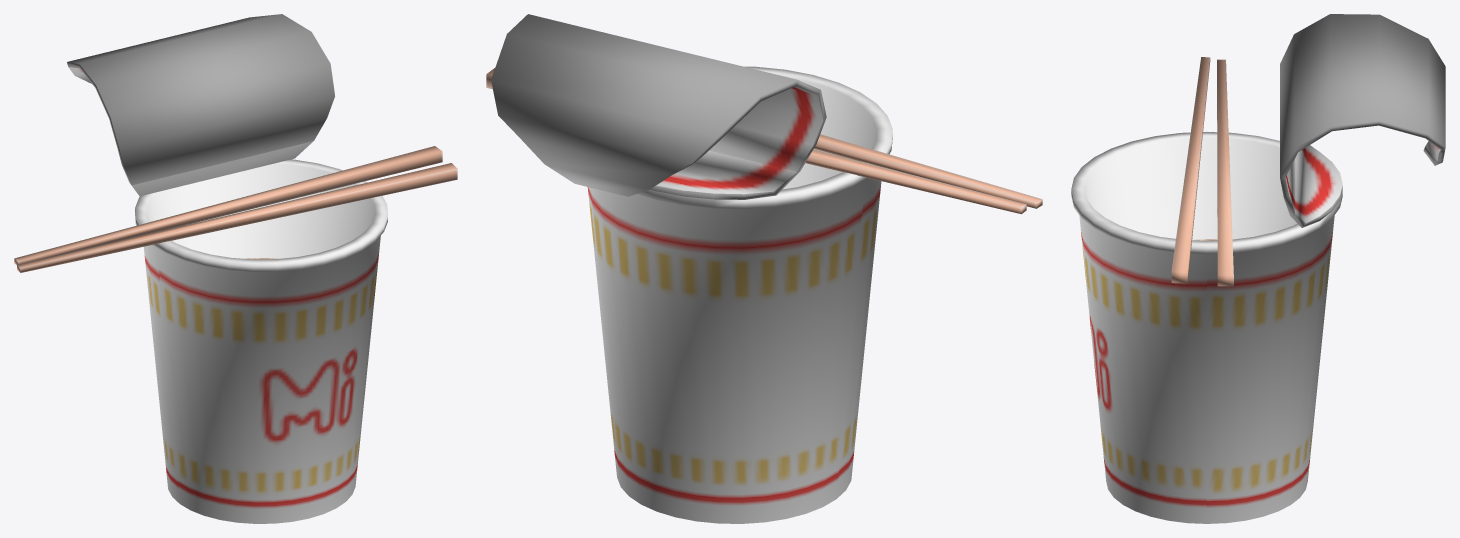
The model's file is cup-noodle.glb.
The picture shows the model from 3 angles, left to right: view 1: azimuth 30°, elevation 25°; view 2: azimuth 150°, elevation 25°; view 3: azimuth 270°, elevation 25°; orthographic projection. The views are drawn at different scales.
Parts seen in each view (by area): view 1: noodle; view 2: noodle; view 3: noodle.
Boxes of the visible parts, x1,y1,x2,y2 form: noodle: (14, 14, 457, 523); noodle: (486, 14, 1042, 523); noodle: (1071, 14, 1445, 523).
Size of the model in its own units: 0.1882 by 0.1617 by 0.1326.
1 material, 1 textured.
